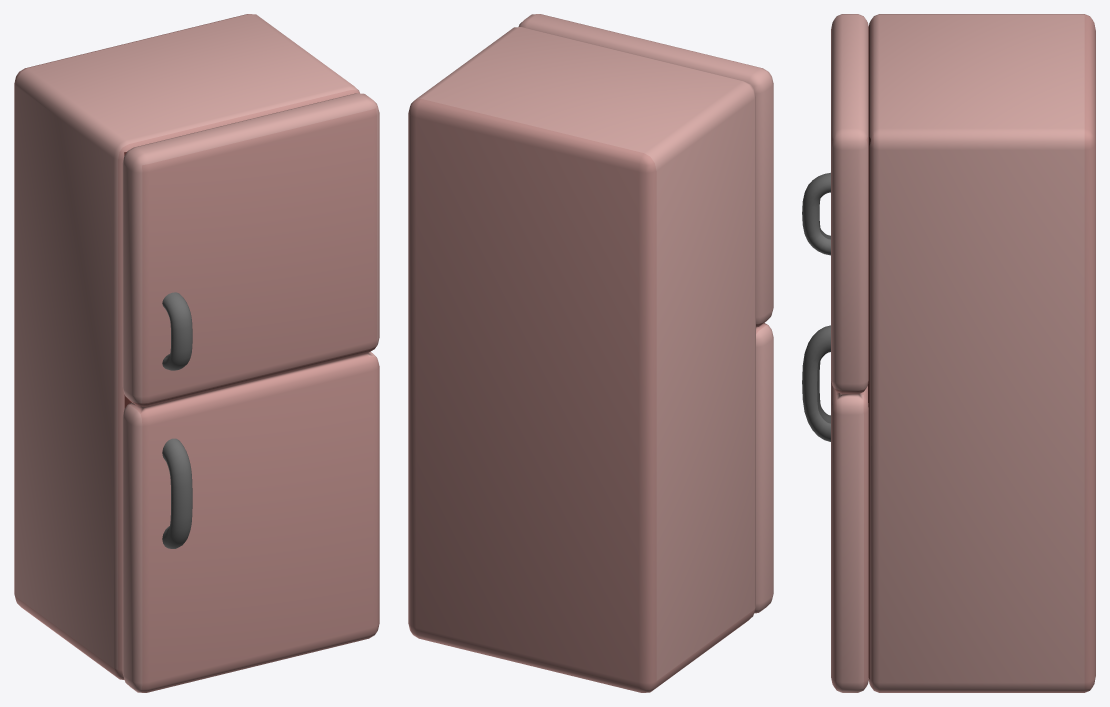
The model's file is 3d_Fridge.fbx.
The picture shows the model from 3 angles, left to right: view 1: azimuth 30°, elevation 25°; view 2: azimuth 150°, elevation 25°; view 3: azimuth 270°, elevation 25°; orthographic projection. The views are drawn at different scales.
Visible parts, largest first — view 1: 3d_Fridge; view 2: 3d_Fridge; view 3: 3d_Fridge.
Boxes of the visible parts, x1=… form: 3d_Fridge: x1=14, y1=14, x2=379, y2=692; 3d_Fridge: x1=408, y1=14, x2=773, y2=692; 3d_Fridge: x1=802, y1=14, x2=1095, y2=692.
Size of the model in its own units: 0.8624 by 1.8 by 0.8505.
